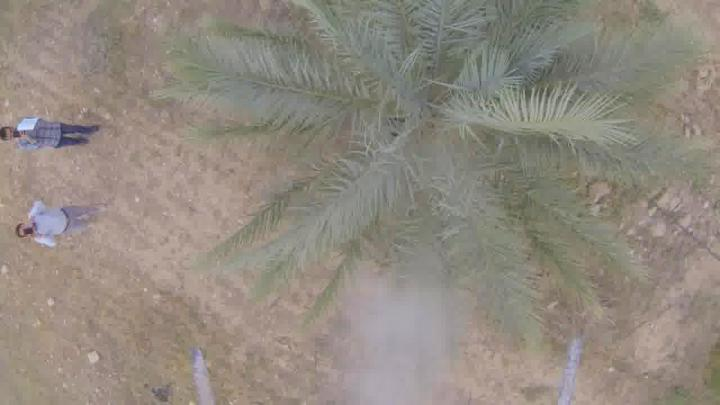Date-Palm-Crown: (275, 0, 589, 258)
